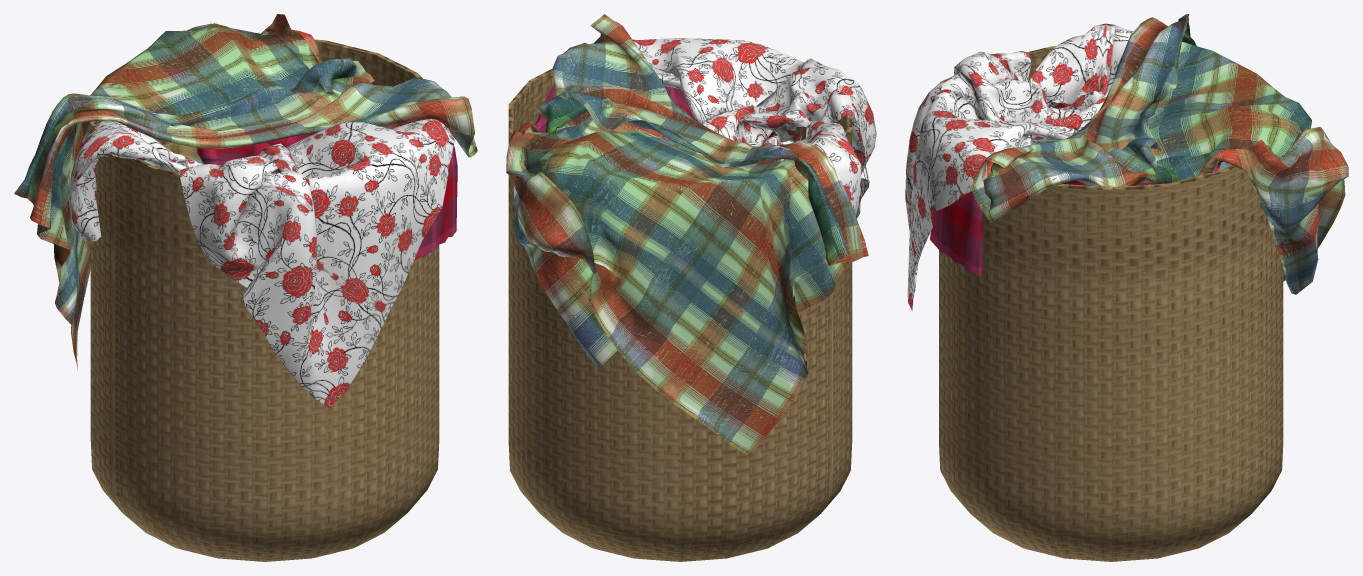
File: Laundry Basket.fbx
3 renders of one model, left to right at view 1: azimuth 30°, elevation 25°; view 2: azimuth 150°, elevation 25°; view 3: azimuth 270°, elevation 25°, orthographic.
Parts seen in each view (by area): view 1: Object_5, Object_6, Object_3, Object_4; view 2: Object_3, Object_5, Object_6, Object_4; view 3: Object_5, Object_3, Object_6, Object_4.
Part boxes in pixels (box(x1,y1,x2,y2)): Object_5: box(90, 39, 439, 561); Object_6: box(68, 119, 454, 408); Object_3: box(14, 14, 477, 370); Object_4: box(197, 120, 457, 260); Object_3: box(506, 14, 868, 457); Object_5: box(508, 68, 852, 561); Object_6: box(633, 38, 876, 218); Object_4: box(535, 86, 696, 132); Object_5: box(939, 46, 1283, 561); Object_3: box(970, 14, 1348, 294); Object_6: box(905, 23, 1133, 310); Object_4: box(930, 161, 1223, 275).
Bounding box in the file's own units: 21726 × 24583 × 23105.
4 materials, 4 textured.
